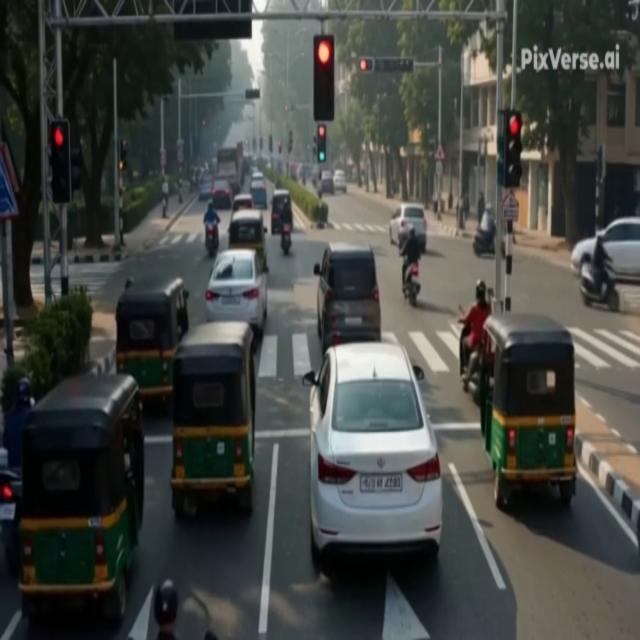car: (303, 343, 442, 562), (314, 243, 381, 352), (205, 249, 267, 335), (599, 217, 639, 281), (389, 203, 427, 252), (271, 190, 290, 234), (211, 178, 232, 209), (250, 179, 267, 209), (199, 173, 213, 200), (233, 194, 252, 212), (320, 171, 334, 194), (333, 170, 346, 193), (251, 171, 264, 182)
scooty: (0, 469, 21, 578), (580, 260, 619, 311), (473, 220, 496, 256), (403, 263, 420, 306), (459, 327, 469, 378), (205, 224, 218, 257), (281, 224, 291, 255)
traffic signal: (50, 120, 72, 203), (314, 35, 334, 121), (502, 110, 522, 188), (374, 58, 414, 73), (71, 140, 82, 193), (317, 124, 326, 163), (119, 140, 127, 171), (359, 57, 373, 72), (245, 88, 259, 100), (288, 130, 292, 153), (268, 135, 272, 153), (313, 136, 316, 156), (259, 136, 262, 151), (278, 141, 281, 153), (202, 120, 206, 127)
truck: (217, 147, 240, 195), (237, 142, 245, 185)
